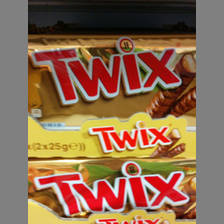chocolate: (29, 34, 196, 126), (28, 159, 196, 219)
